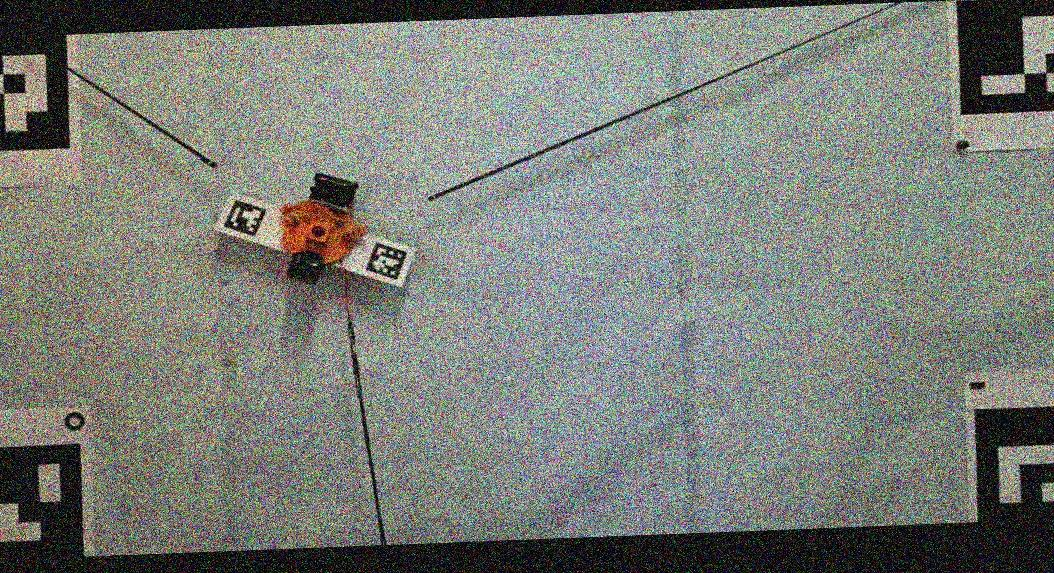robot: (278, 173, 366, 284)
